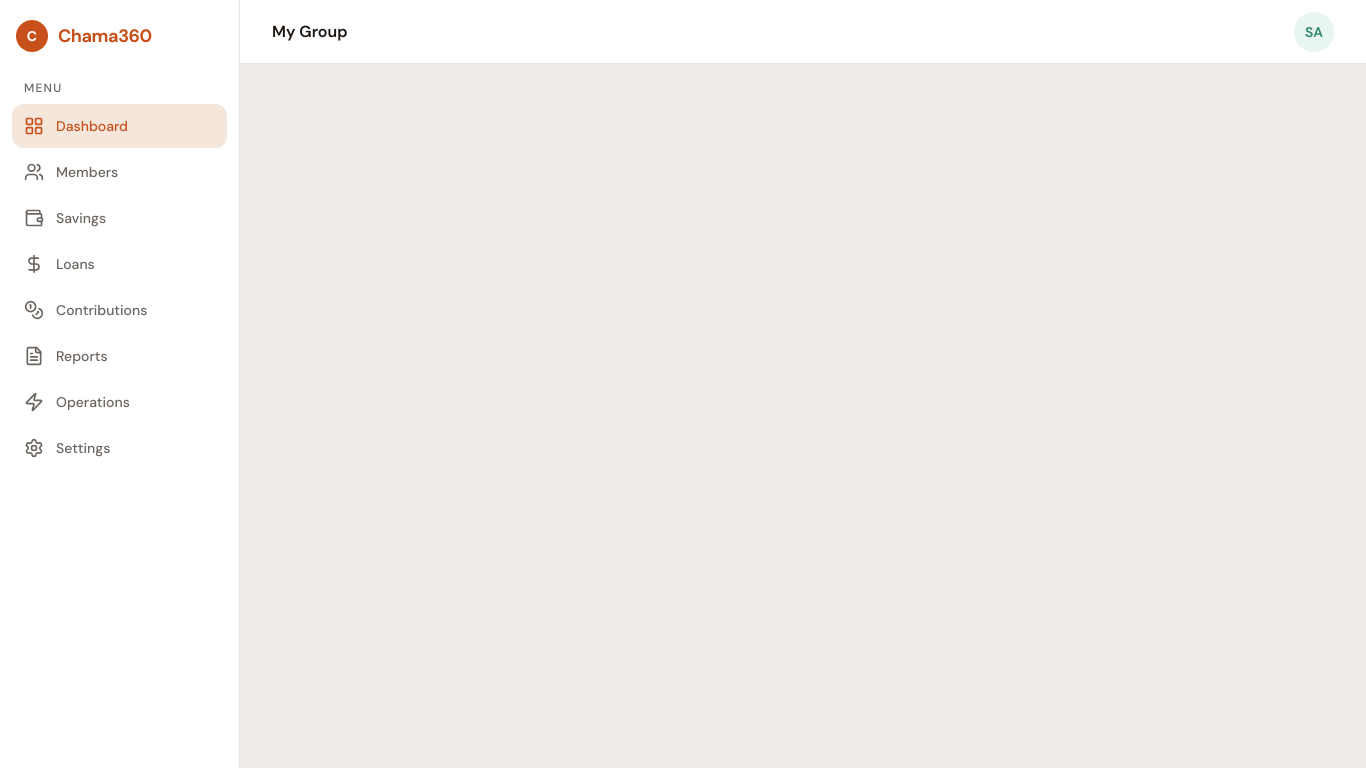
Test case: switching to Platform Admin renders AdminSidebar, not the regular group sidebar
The width and height of the screenshot is (1366, 768).
Check: the link "Members" is shown, box [24, 162, 118, 182]
Click the button with aria-label "User menu" at coordinates (1314, 32), box [1294, 12, 1334, 52]
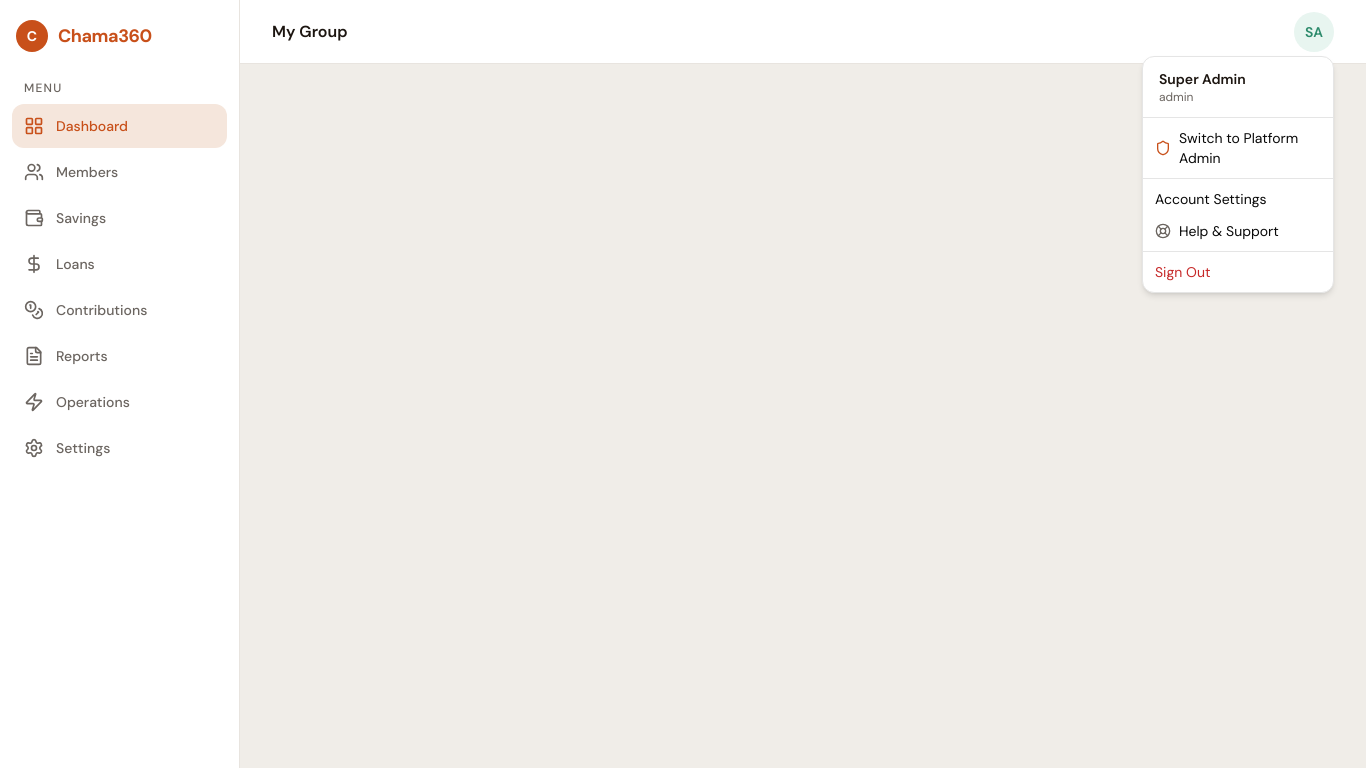
Click the menu item "Switch to Platform Admin" at coordinates (1227, 148), box [1155, 129, 1298, 167]
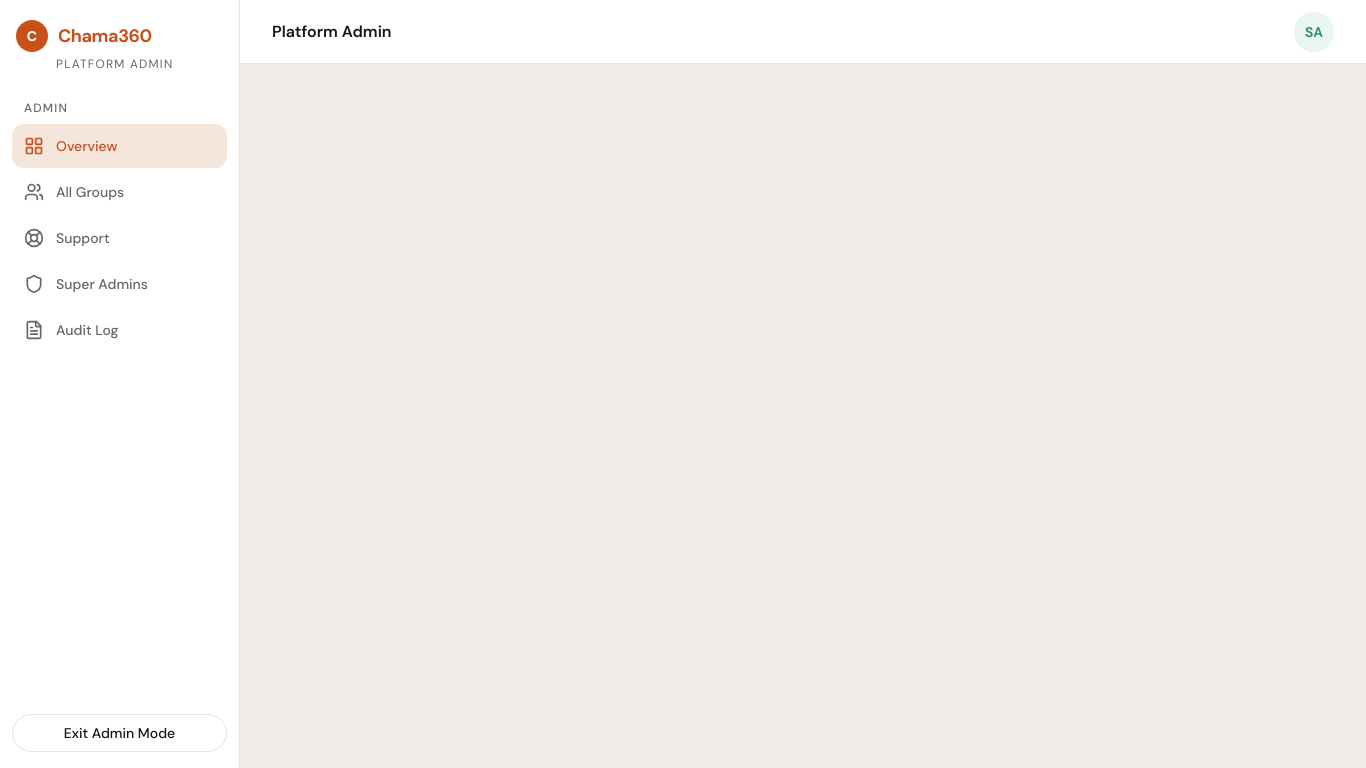
Check: the text "Platform Admin" below "Chama360" is shown, box [56, 56, 173, 72]
Check: the link "All Groups" is shown, box [24, 182, 124, 202]
Check: the link "Members" is gone
